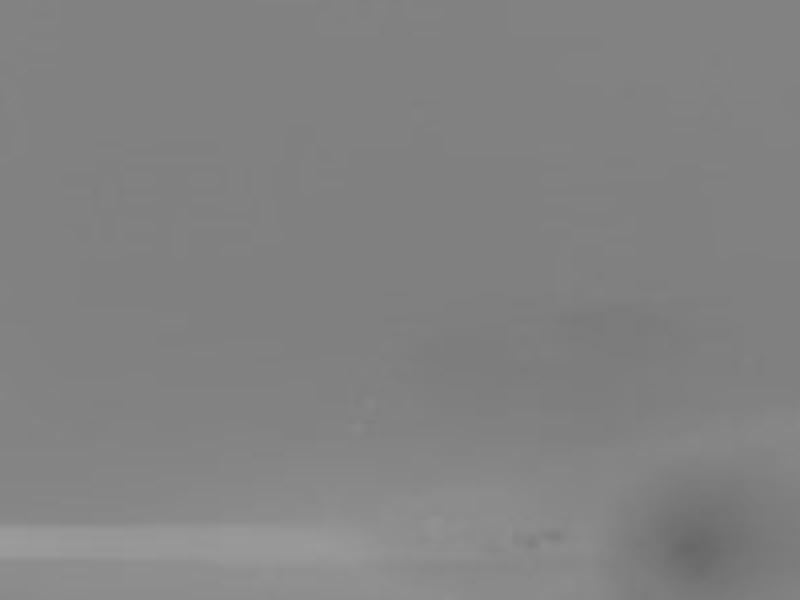defect: (645, 530, 717, 585), (517, 531, 538, 550), (542, 528, 562, 544)
